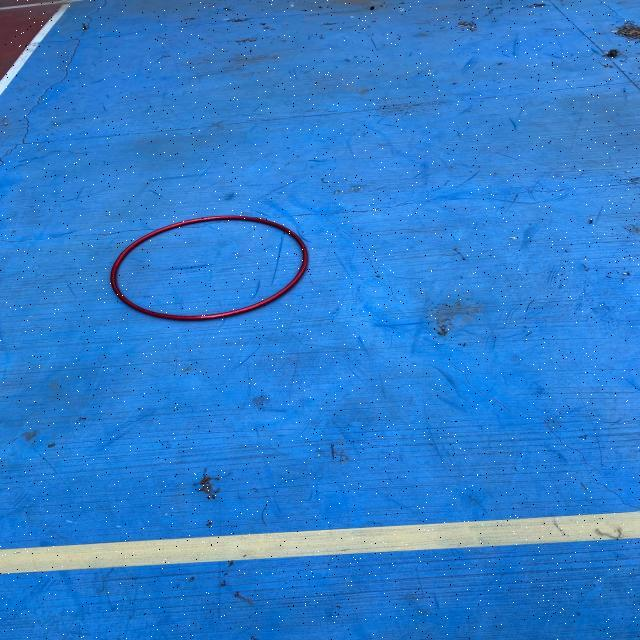Circle: (109, 214, 309, 322)
